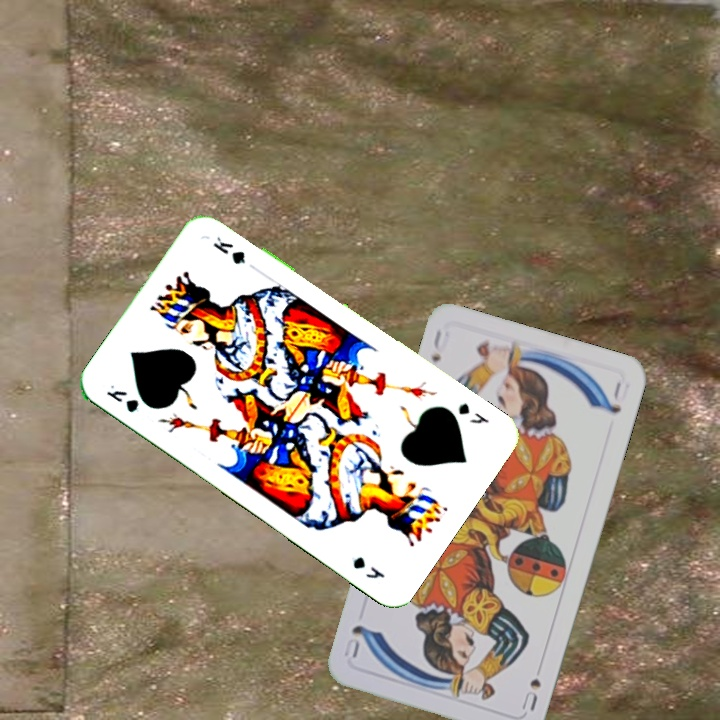GK: (102, 386, 142, 416), (454, 398, 492, 427)
SU: (517, 674, 544, 713), (427, 325, 452, 365)
